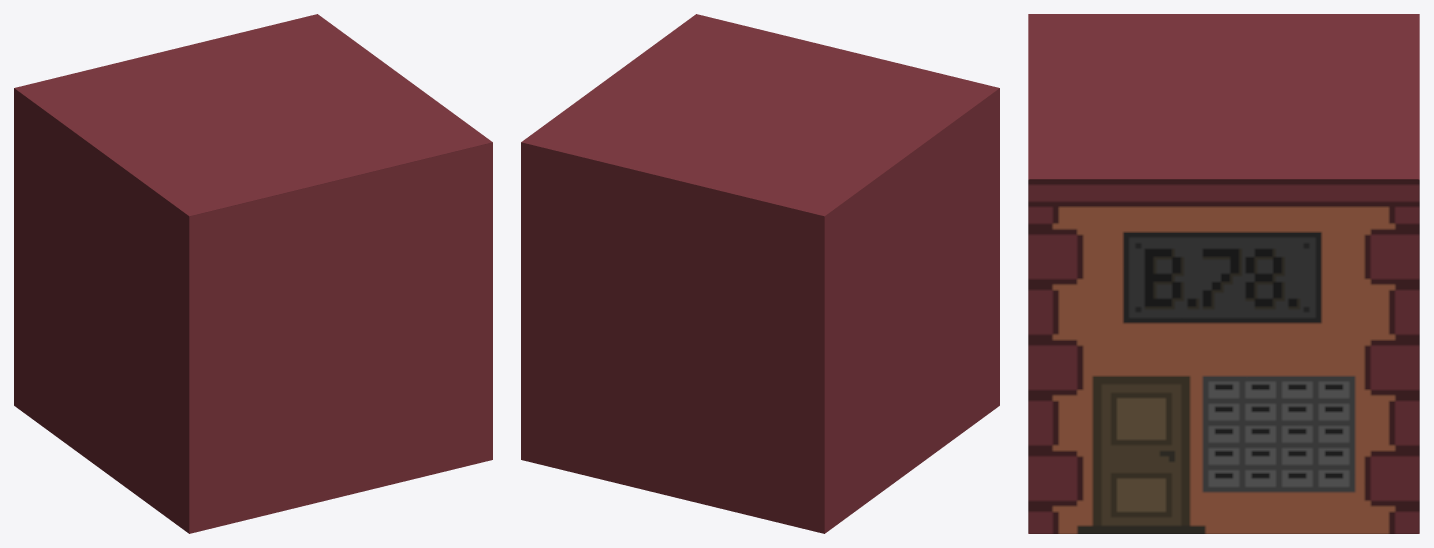
File: BrickBuildingRed_2_128x128_Ground02.fbx
The picture shows the model from 3 angles, left to right: view 1: azimuth 30°, elevation 25°; view 2: azimuth 150°, elevation 25°; view 3: azimuth 270°, elevation 25°; orthographic projection. The views are drawn at different scales.
Visible parts, largest first — view 1: Ground02; view 2: Ground02; view 3: Ground02.
Part boxes in pixels (left/top/right/bottom): Ground02: left=14, top=14, right=492, bottom=533; Ground02: left=521, top=14, right=999, bottom=533; Ground02: left=1028, top=14, right=1419, bottom=533.
Bounding box in the file's own units: 100 × 100 × 100.
1 material, 1 textured.
